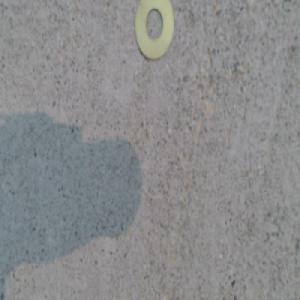Washer: (132, 0, 177, 61)
